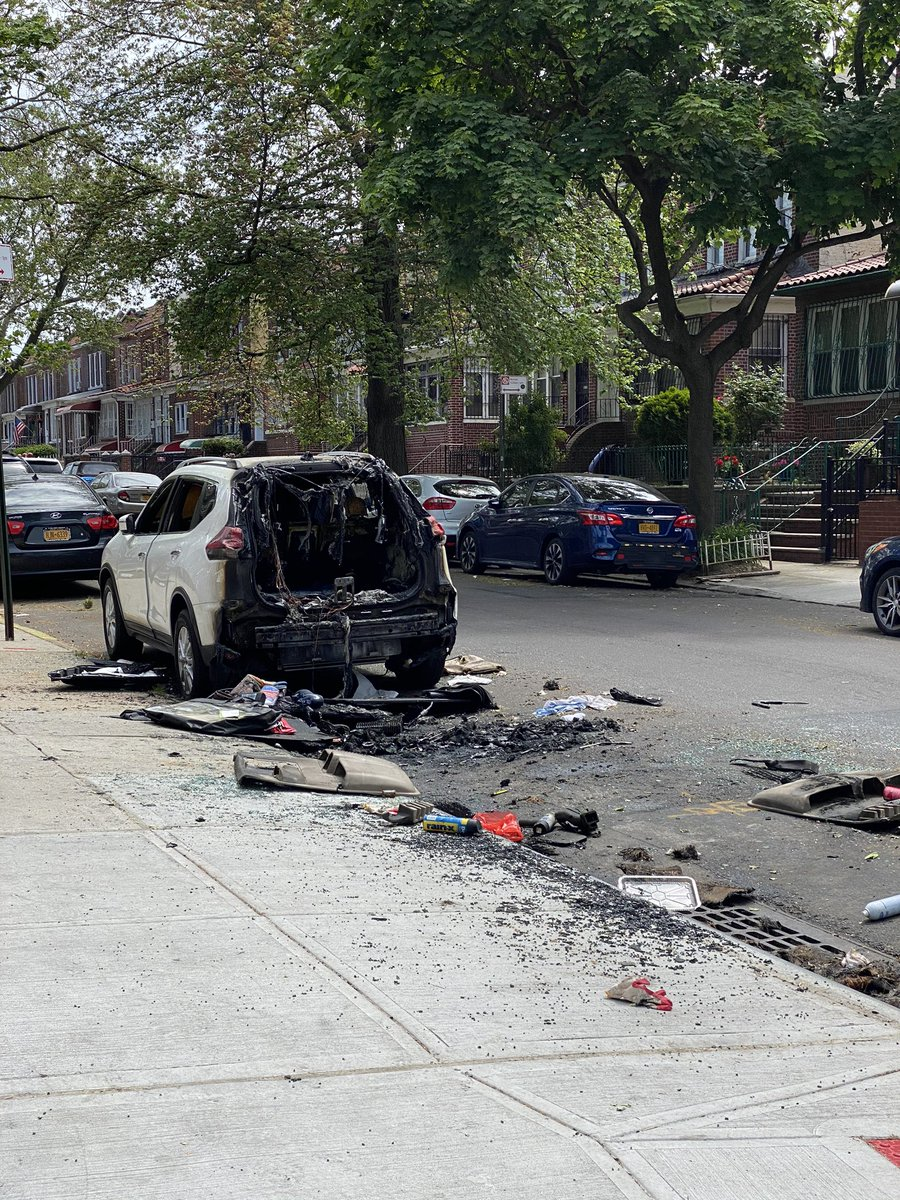building: (13, 258, 407, 462), (762, 110, 900, 573)
car: (105, 455, 479, 747), (459, 464, 716, 599), (1, 468, 114, 597)
sidewalk: (1, 690, 900, 1200)
street: (429, 577, 900, 992)
tree: (451, 1, 857, 559), (1, 1, 442, 462)
